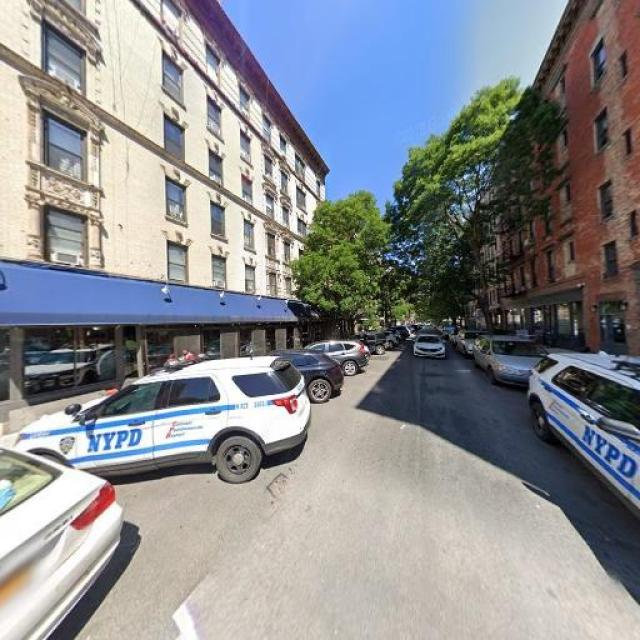Building: (1, 1, 324, 424), (509, 1, 640, 363)
